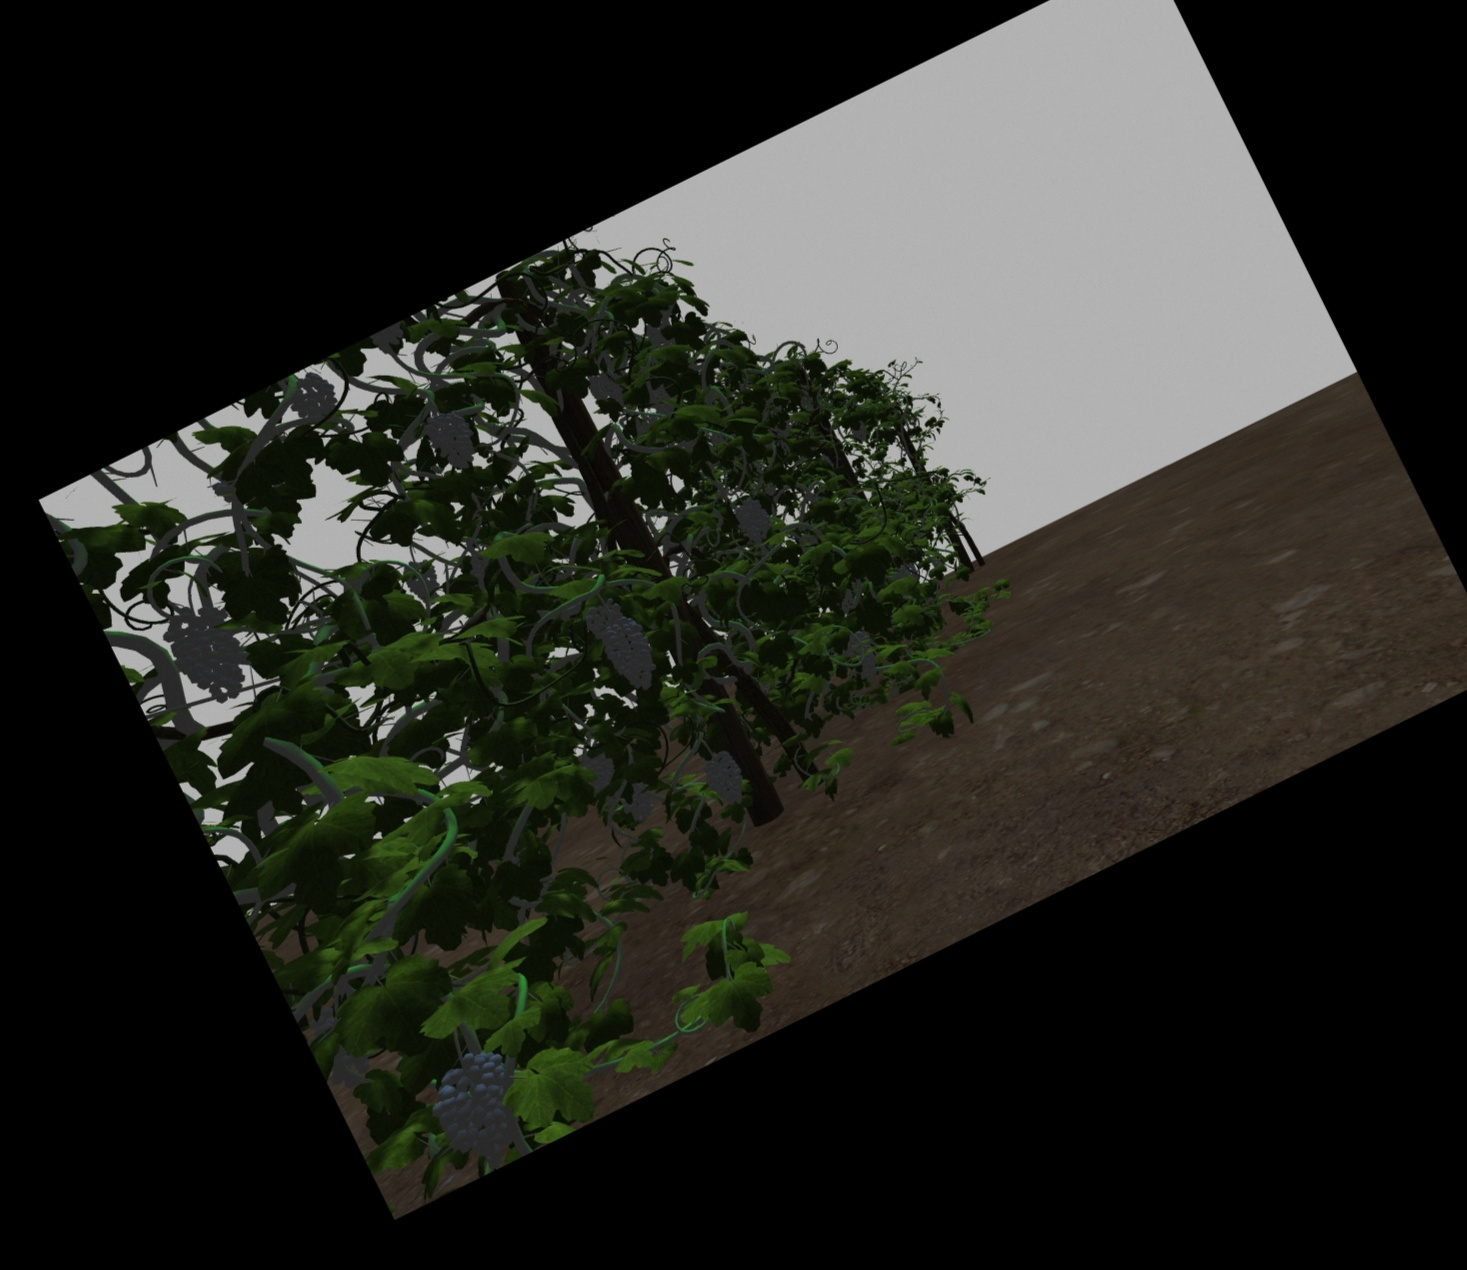grape: (437, 1057, 523, 1164), (176, 608, 242, 700), (614, 620, 652, 689), (433, 409, 473, 469), (294, 376, 336, 430), (709, 752, 743, 806), (405, 560, 438, 601), (850, 633, 877, 681), (588, 755, 617, 798), (738, 499, 768, 539), (586, 603, 621, 630), (622, 791, 652, 820), (604, 372, 621, 404), (588, 374, 606, 400)
